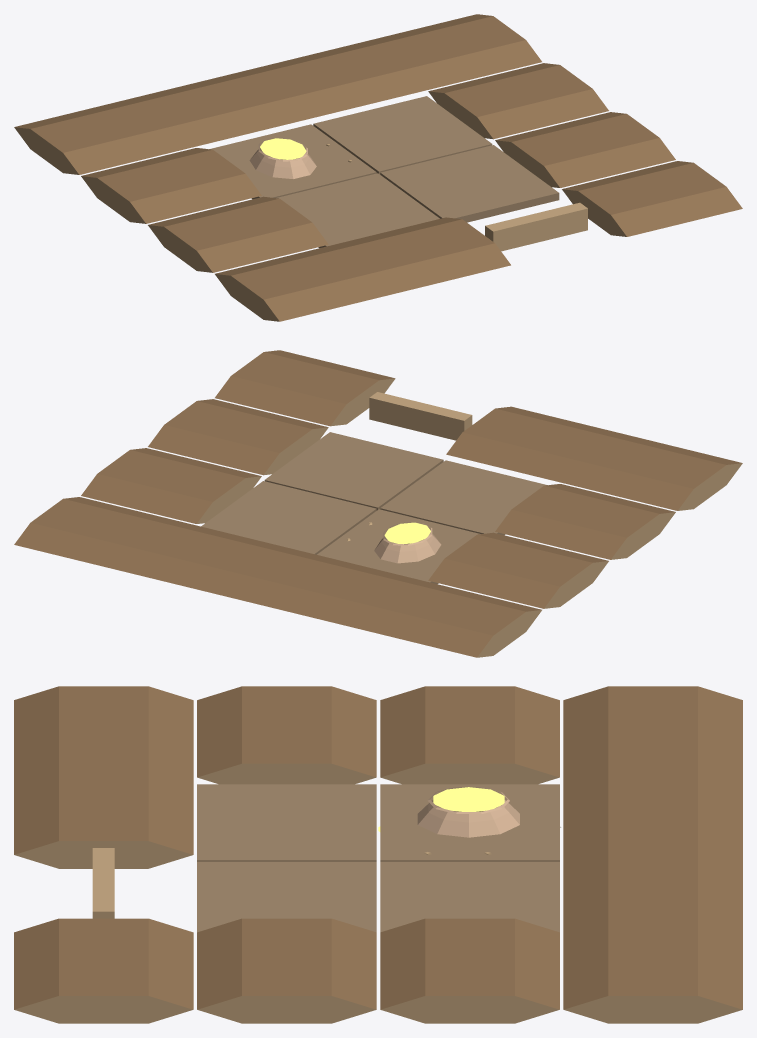
File: building_smelter_foundation.glb
3 renders of one model, top to bottom at view 1: azimuth 30°, elevation 25°; view 2: azimuth 150°, elevation 25°; view 3: azimuth 270°, elevation 25°, orthographic. The views are drawn at different scales.
Visible parts, largest first — view 1: building_smelter_foundation; view 2: building_smelter_foundation; view 3: building_smelter_foundation.
Boxes of the visible parts, x1,y1,x2,y2 form: building_smelter_foundation: (14,14,742,321); building_smelter_foundation: (14,350,742,657); building_smelter_foundation: (14,686,742,1023).
Bounding box in the file's own units: 4 × 0.1858 × 3.98.
